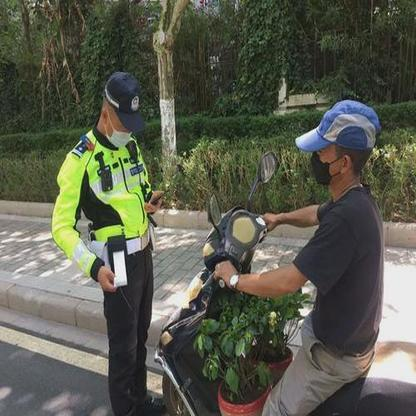target: (154, 99, 412, 411)
